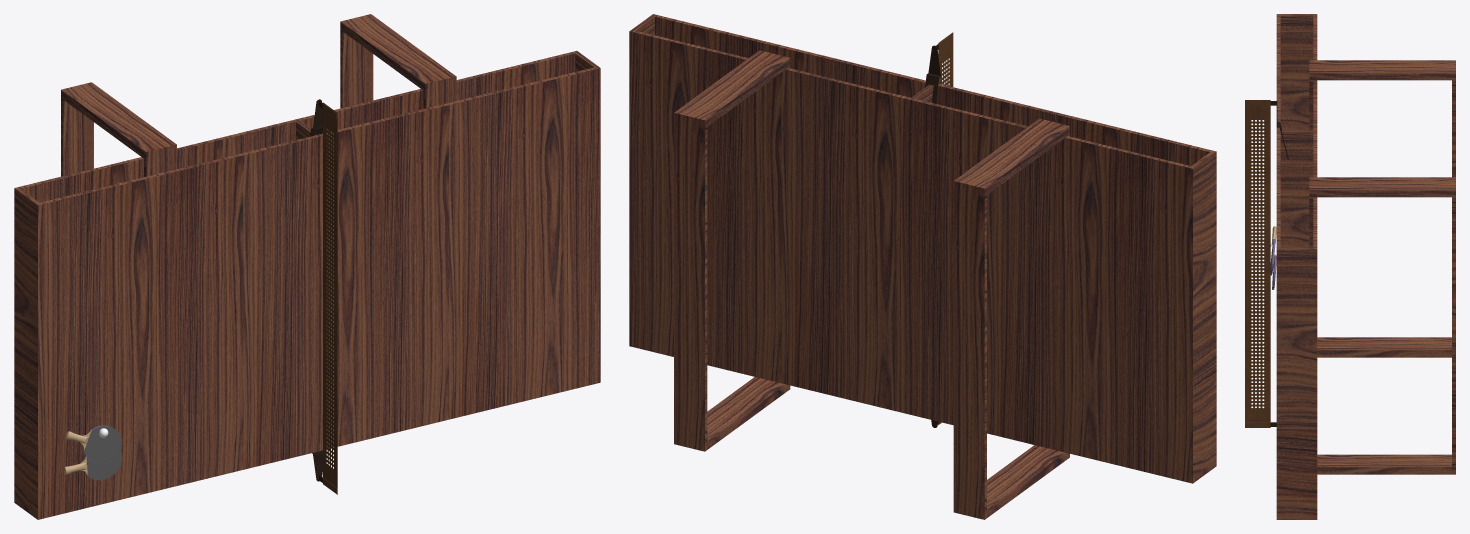
File: cobal-pingpong.glb
The picture shows the model from 3 angles, left to right: view 1: azimuth 30°, elevation 25°; view 2: azimuth 150°, elevation 25°; view 3: azimuth 270°, elevation 25°; orthographic projection. The views are drawn at different scales.
Visible parts, largest first — view 1: ID34, ID24, ID6, ID45, ID157, ID3714_3; view 2: ID34, ID45, ID6, ID24, ID157; view 3: ID34, ID157, ID24, ID6, ID45.
Part boxes in pixels (left/top/right/bottom): ID34: left=14, top=51, right=600, bottom=519; ID24: left=21, top=53, right=593, bottom=202; ID6: left=340, top=14, right=456, bottom=108; ID45: left=61, top=82, right=176, bottom=176; ID157: left=322, top=102, right=337, bottom=494; ID3714_3: left=84, top=426, right=121, bottom=463; ID34: left=629, top=14, right=1216, bottom=483; ID45: left=953, top=118, right=1069, bottom=519; ID6: left=674, top=50, right=790, bottom=451; ID24: left=636, top=17, right=1209, bottom=165; ID157: left=938, top=32, right=953, bottom=424; ID34: left=1276, top=14, right=1317, bottom=519; ID157: left=1245, top=100, right=1270, bottom=427; ID24: left=1280, top=15, right=1313, bottom=248; ID6: left=1309, top=177, right=1455, bottom=474; ID45: left=1309, top=60, right=1455, bottom=357.
Size of the model in its own units: 108 by 69.92 by 40.75.
Materials: 11 (4 with a texture image).
